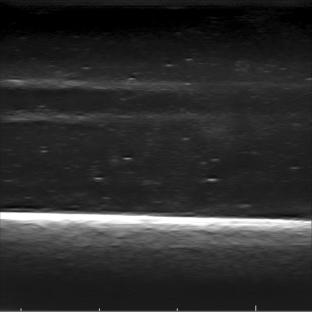vessel: (1, 78, 122, 126)
